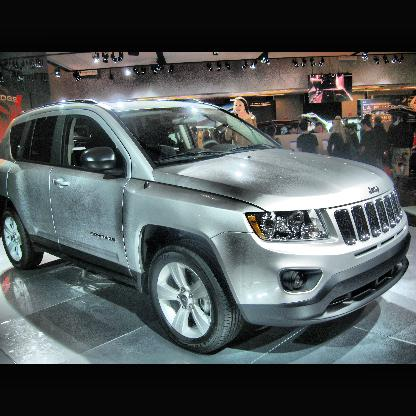Jeep Compass SUV 2012: (1, 97, 414, 357)
